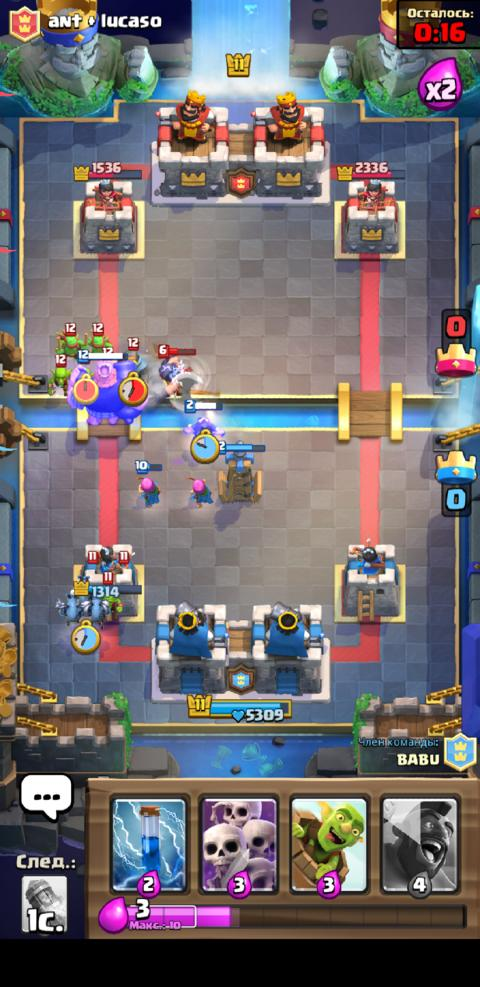ally_archer: (134, 459, 162, 507), (185, 475, 214, 508)
ally_electro_wizard: (181, 398, 225, 437)
ally_minion: (53, 592, 83, 625), (80, 594, 110, 627), (68, 574, 92, 596)
ally_royale_giant: (65, 347, 149, 426)
ally_tesla: (216, 439, 265, 504)
enemy_executioner: (155, 342, 210, 412)
enemy_goblin: (95, 569, 123, 623), (46, 353, 71, 397)
enemy_knight: (122, 335, 148, 380)
enemy_spear_goblin: (54, 320, 86, 356), (87, 321, 112, 352)
